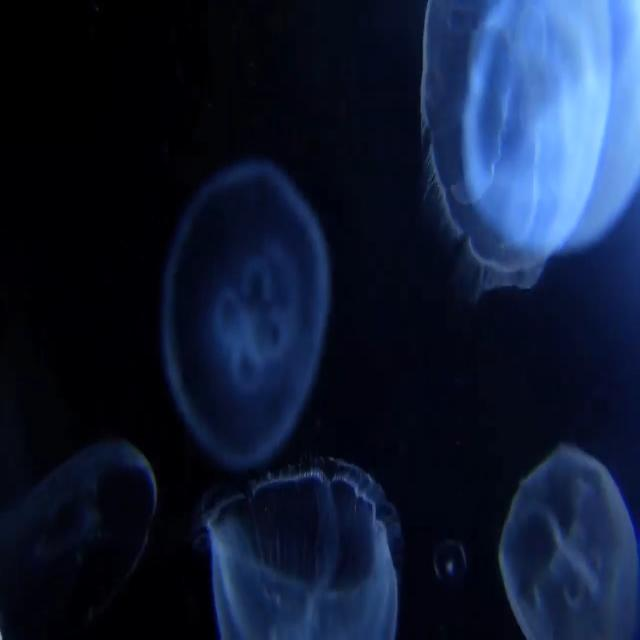Moon-jellyfish: (419, 0, 640, 292), (163, 180, 332, 458), (203, 476, 404, 639), (15, 435, 158, 639), (496, 441, 640, 639)
